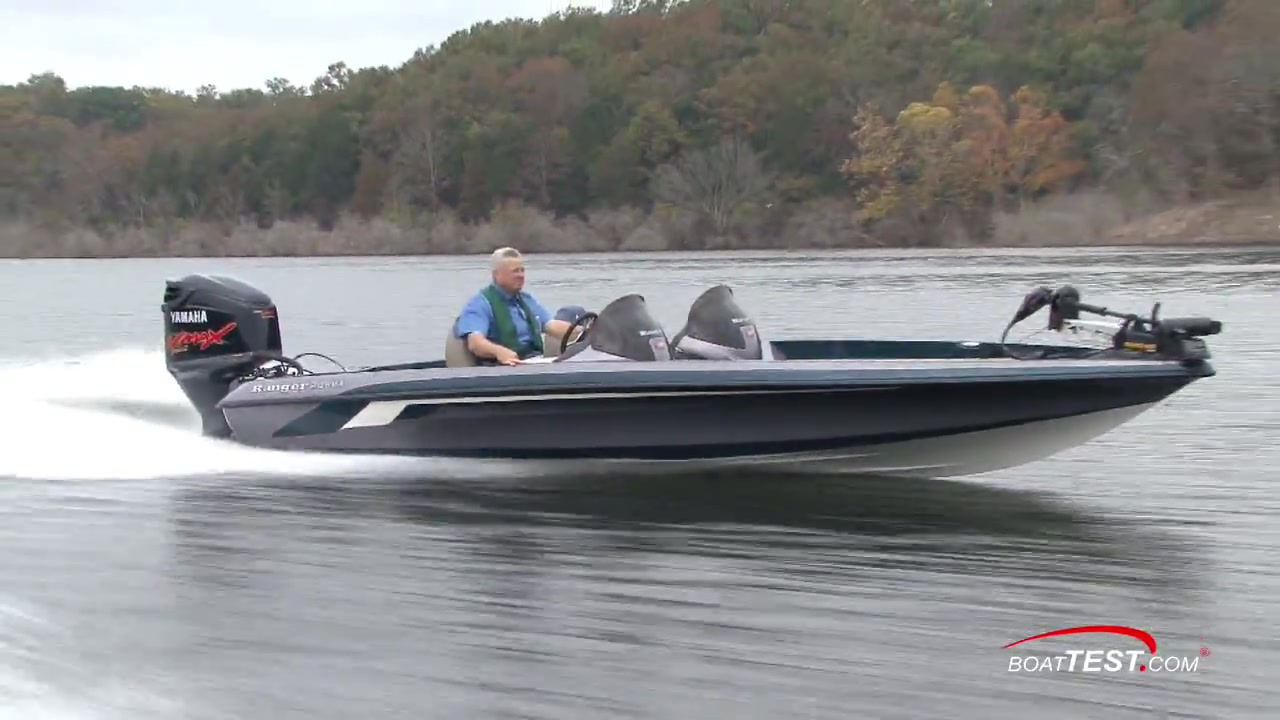boat: (160, 262, 1226, 487)
